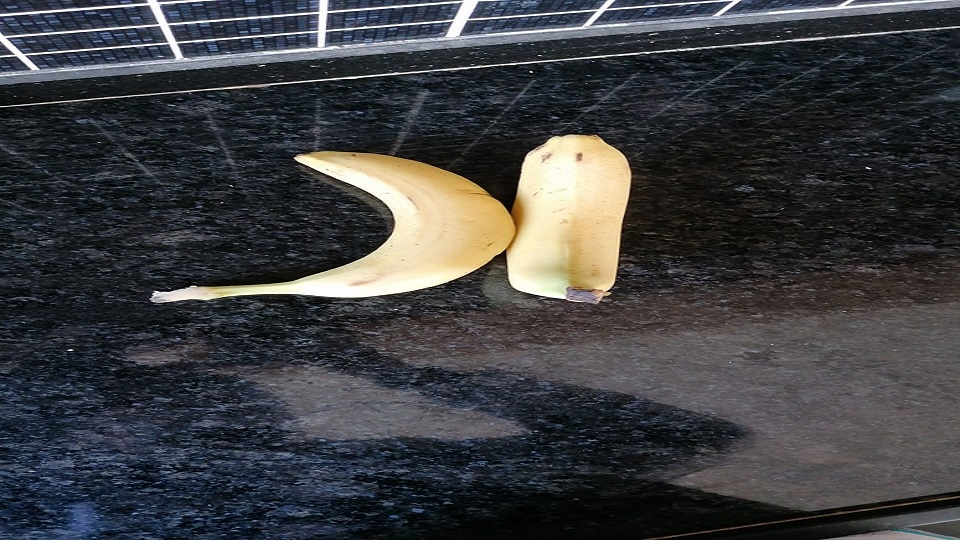muz: (149, 148, 517, 300), (505, 132, 633, 308)
